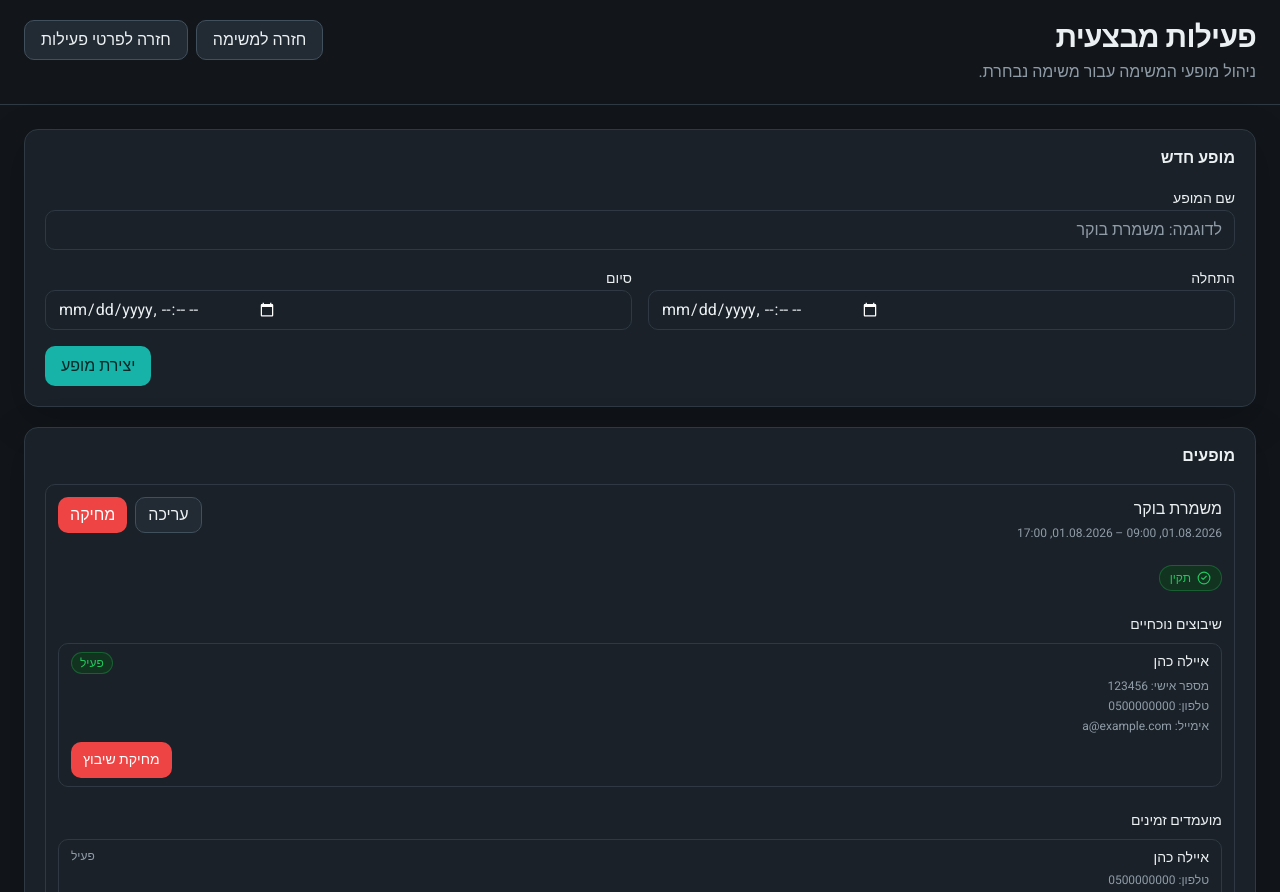
it: ActivityTaskInstancesPage › renders a failed delete state without removing the assignment from the current list
This screenshot has width=1280, height=892.
Click the button "מחיקת שיבוץ".
click(121, 760)  # box [71,742,172,778]
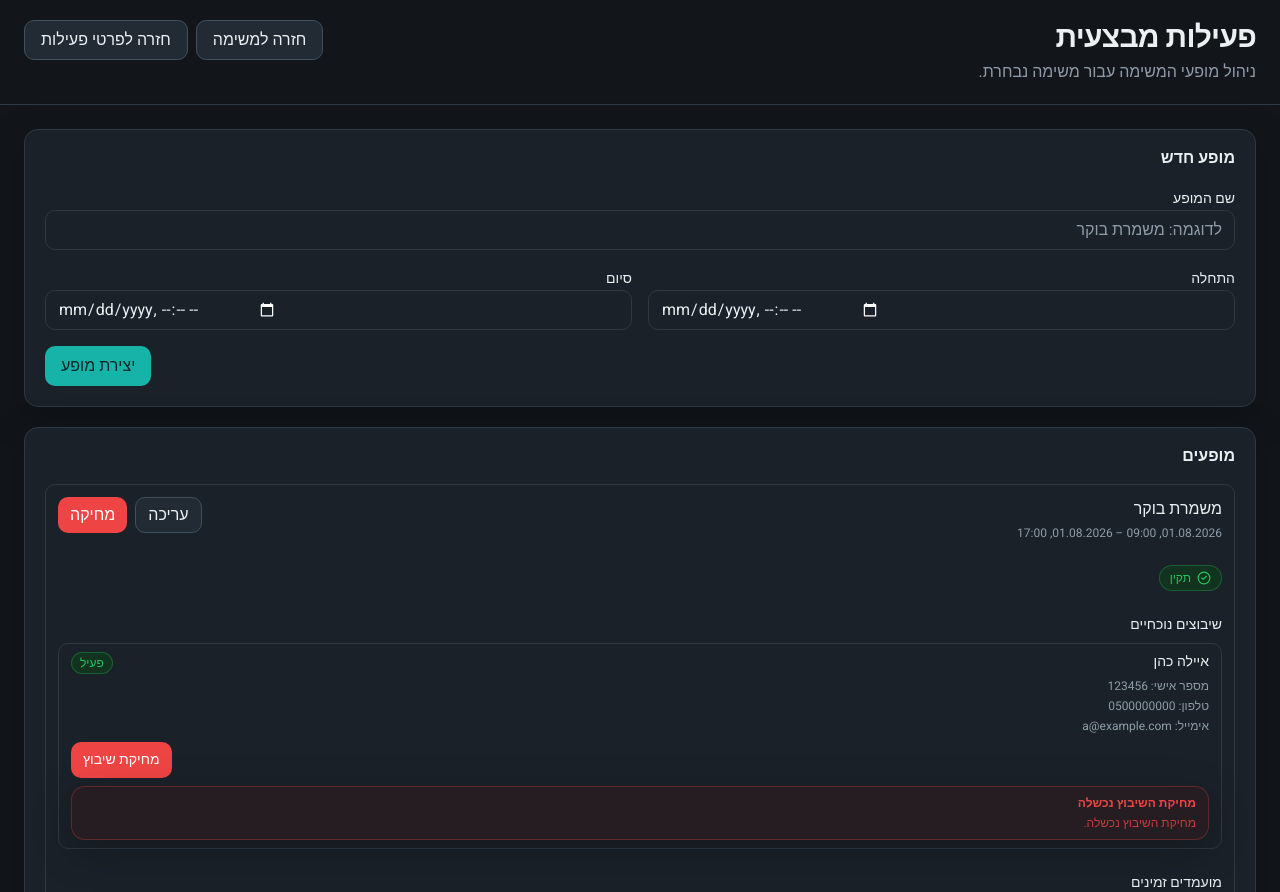
Expected: the text "איילה כהן" is shown, [1154,651,1209,672]
Expected: the heading "מחיקת השיבוץ נכשלה" is shown, [1078,794,1196,812]
